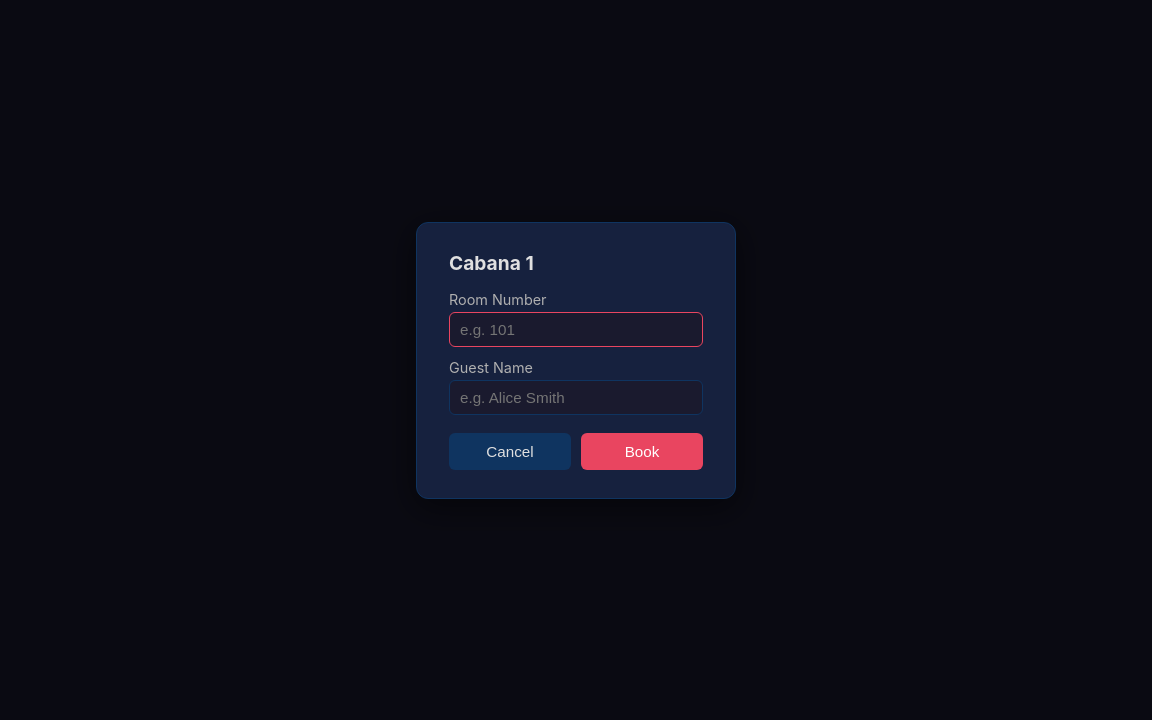
Test: BookingModal › should show error message from API on failure
Type "999" into the field with placeholder "e.g. 101".
click(576, 329); type("999")  # box [449,312,703,346]
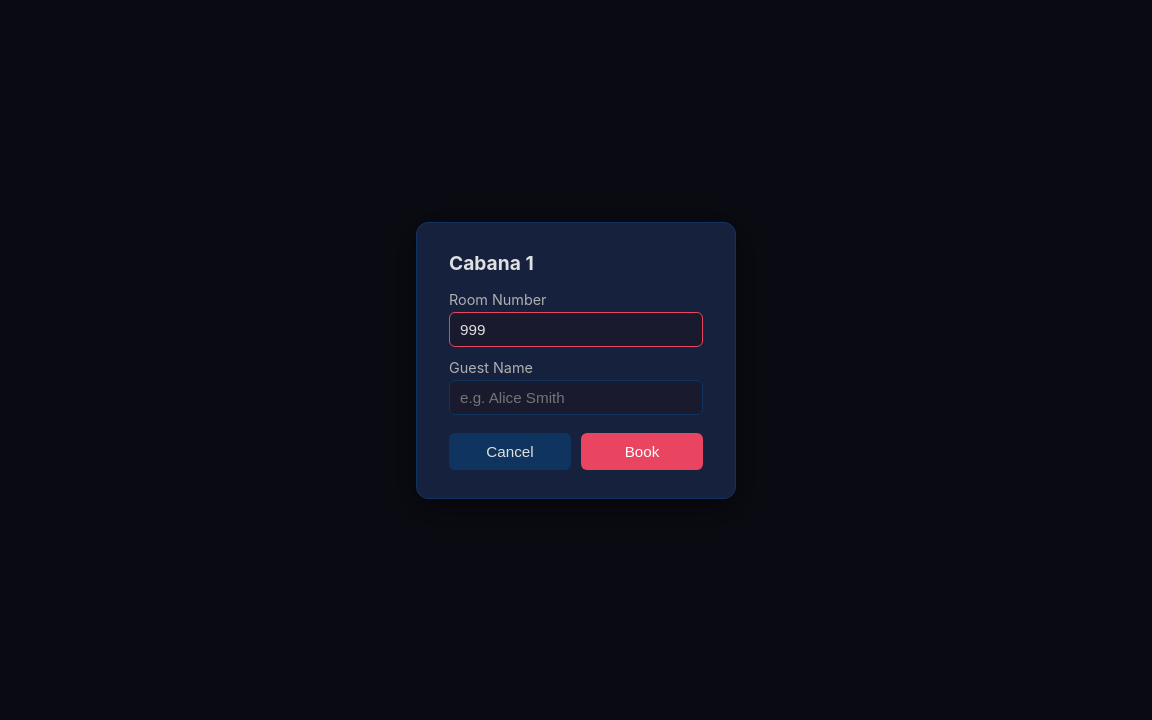
Type "Wrong" into the field with placeholder "e.g. Alice Smith".
click(576, 397); type("Wrong")  # box [449,380,703,414]
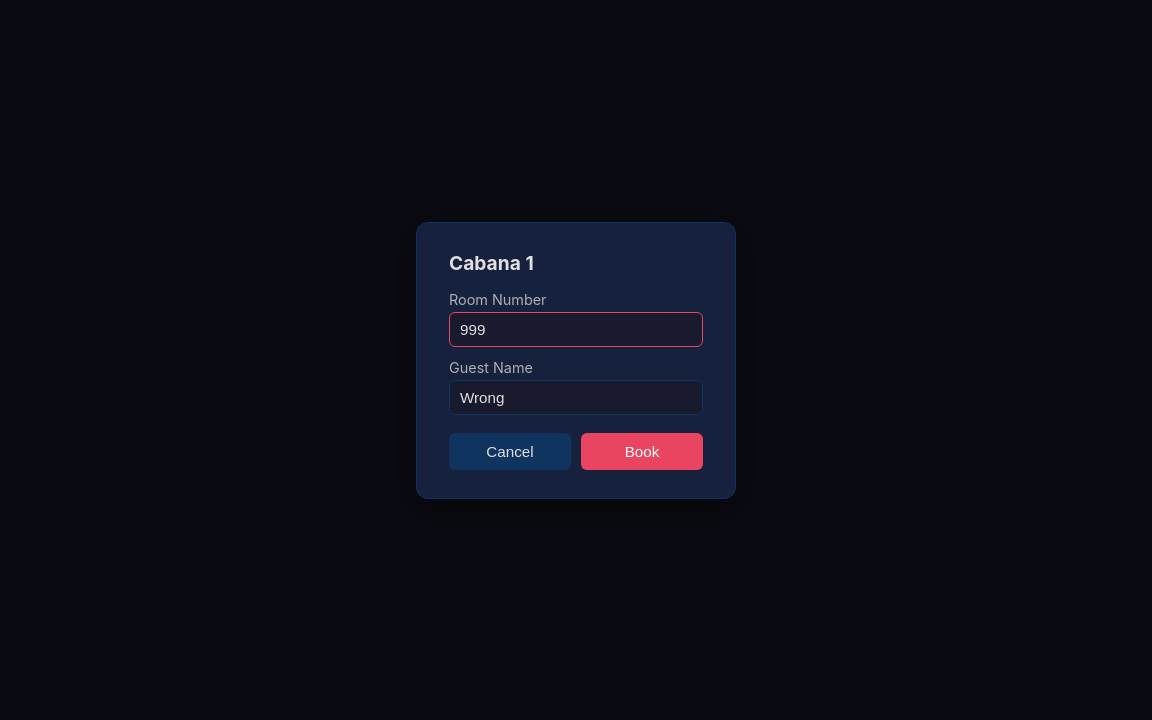
Click the button "Book".
click(642, 451)  # box [581,432,703,470]
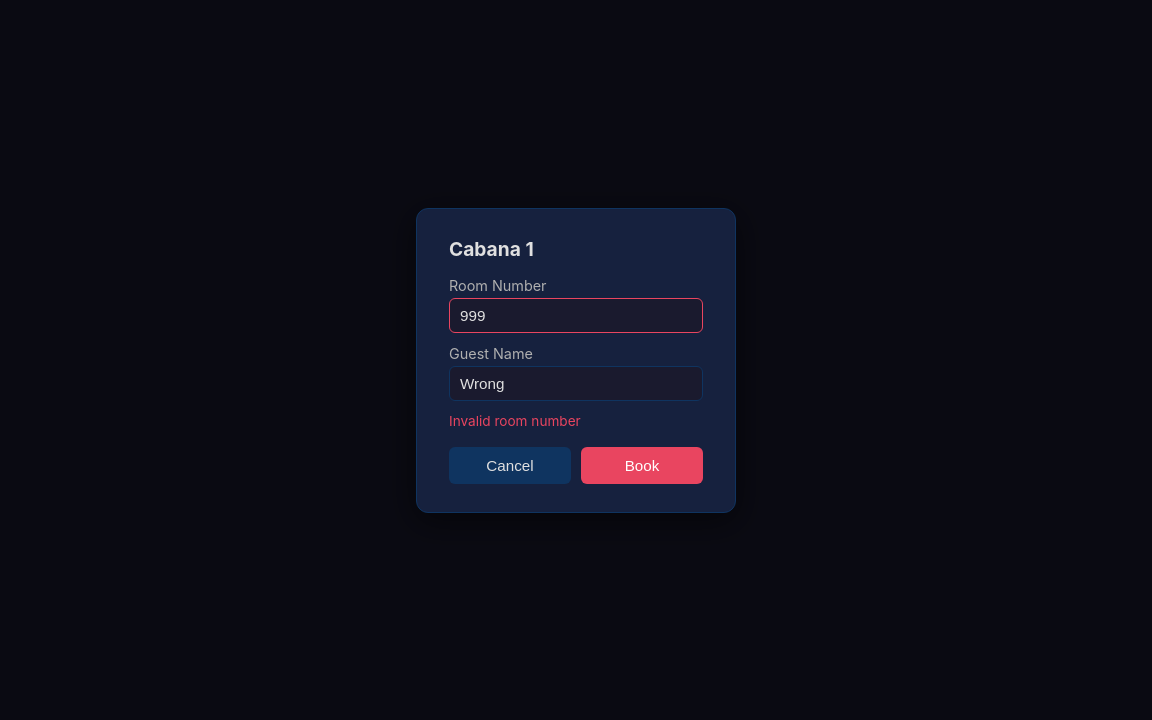
Expected: the text "Invalid room number" is shown, [449,412,581,428]
